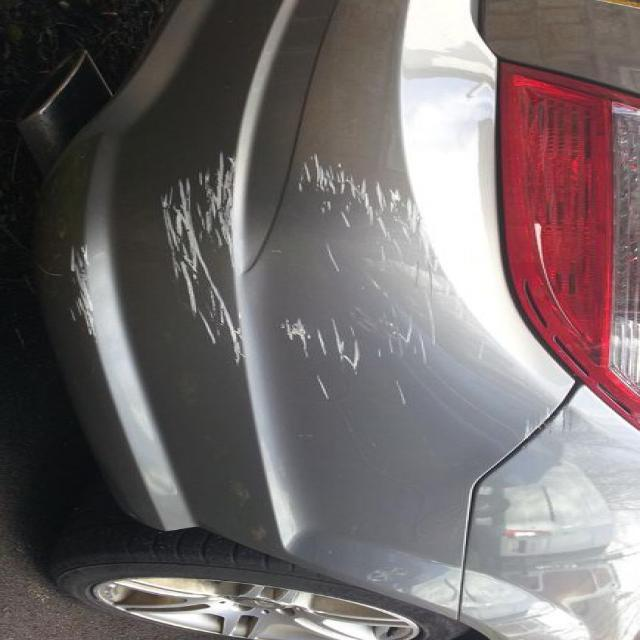scratch: (90, 134, 518, 412)
